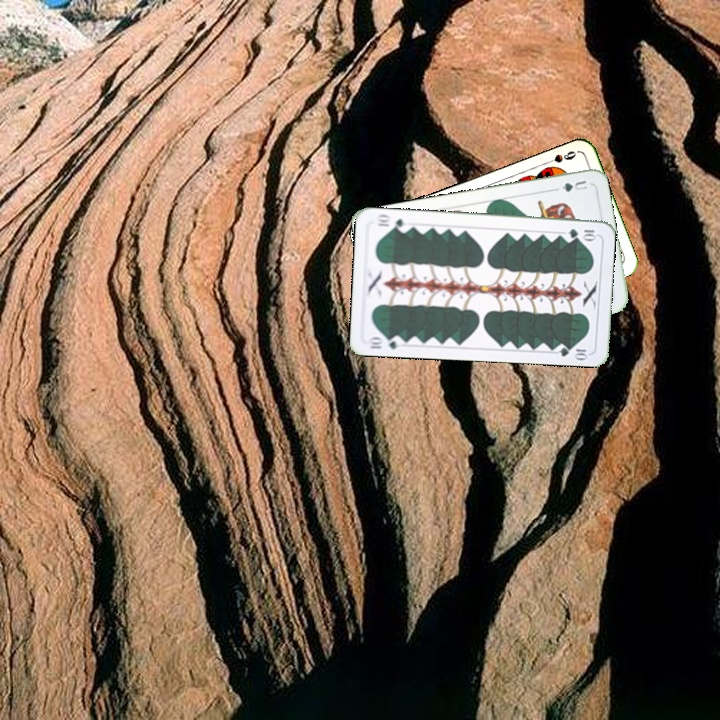G10: (364, 332, 405, 352), (564, 225, 599, 241)
GU: (558, 176, 590, 195)
S9: (540, 147, 579, 168)
